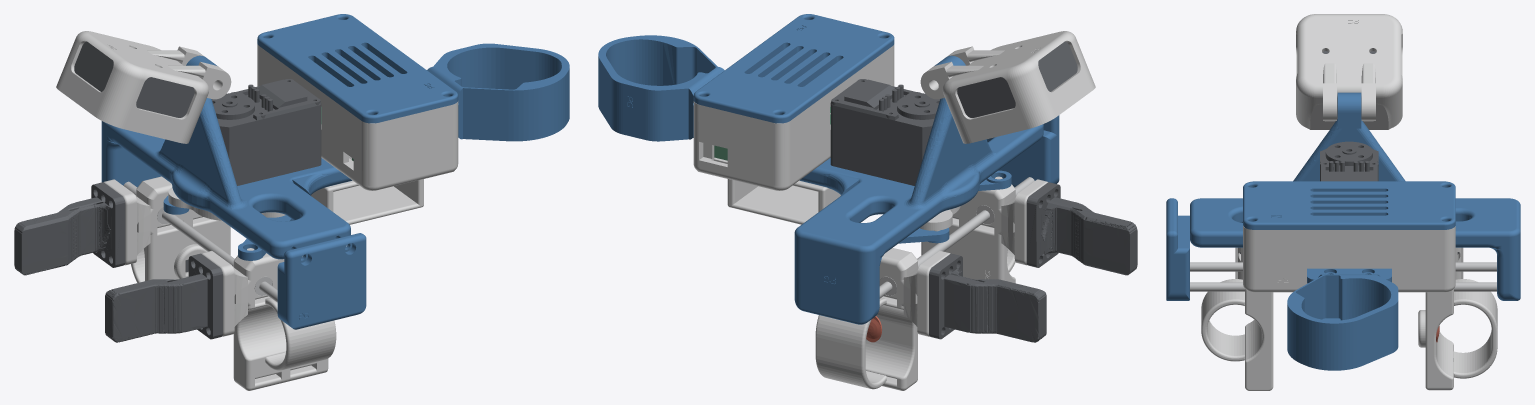
The model's file is para-umi_right_robotiq-hand-e.glb.
3 views of the same model, side by side, from view 1: azimuth 30°, elevation 25°; view 2: azimuth 150°, elevation 25°; view 3: azimuth 270°, elevation 25° (orthographic). The views are drawn at different scales.
Parts seen in each view (by area): view 1: main_support, electronics_lid, controller_support, electronics_box, camera_mount, thumb_link, servo_sts3215, tip_thumb, main_support_cover_plate, tip_index, index_link, hand_support_base (+4 smaller); view 2: main_support, electronics_lid, electronics_box, controller_support, index_link, camera_mount, servo_sts3215, tip_index, tip_thumb, thumb_link, hand_support_base, d405 (+5 smaller); view 3: electronics_box, camera_mount, electronics_lid, controller_support, main_support, index_link, thumb_link, main_support_cover_plate, servo_sts3215, rod_-8, rod_-28.
Part boxes in pixels (bbox=[...]): main_support: bbox=[101, 55, 352, 259]; electronics_lid: bbox=[257, 14, 458, 123]; controller_support: bbox=[427, 43, 569, 141]; electronics_box: bbox=[257, 44, 458, 190]; camera_mount: bbox=[56, 31, 231, 143]; thumb_link: bbox=[201, 248, 336, 390]; servo_sts3215: bbox=[211, 79, 321, 185]; tip_thumb: bbox=[105, 253, 222, 342]; main_support_cover_plate: bbox=[277, 233, 366, 329]; tip_index: bbox=[14, 182, 125, 275]; index_link: bbox=[104, 176, 230, 282]; hand_support_base: bbox=[311, 170, 454, 224]; main_support: bbox=[794, 55, 1043, 324]; electronics_lid: bbox=[693, 14, 894, 123]; electronics_box: bbox=[693, 44, 894, 190]; controller_support: bbox=[598, 35, 724, 141]; index_link: bbox=[815, 248, 950, 390]; camera_mount: bbox=[920, 31, 1095, 143]; servo_sts3215: bbox=[830, 79, 940, 185]; tip_index: bbox=[929, 253, 1046, 342]; tip_thumb: bbox=[1026, 182, 1137, 275]; thumb_link: bbox=[921, 176, 1047, 283]; hand_support_base: bbox=[697, 170, 840, 224]; d405: bbox=[957, 41, 1077, 117]; electronics_box: bbox=[1243, 226, 1455, 292]; camera_mount: bbox=[1296, 14, 1402, 129]; electronics_lid: bbox=[1243, 181, 1455, 229]; controller_support: bbox=[1287, 268, 1398, 370]; main_support: bbox=[1190, 92, 1520, 300]; index_link: bbox=[1418, 247, 1497, 390]; thumb_link: bbox=[1201, 247, 1273, 390]; main_support_cover_plate: bbox=[1166, 198, 1189, 300]; servo_sts3215: bbox=[1320, 141, 1378, 181]; rod_-8: bbox=[1190, 282, 1496, 291]; rod_-28: bbox=[1190, 262, 1496, 271].
Bounding box in the file's own units: 0.2226 × 0.1406 × 0.15.
